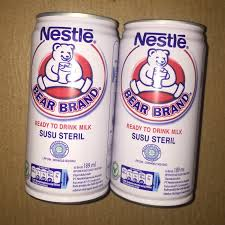Bear Brand Susu Steril (189ml): (114, 17, 206, 208), (25, 9, 109, 202), (70, 2, 87, 7)
